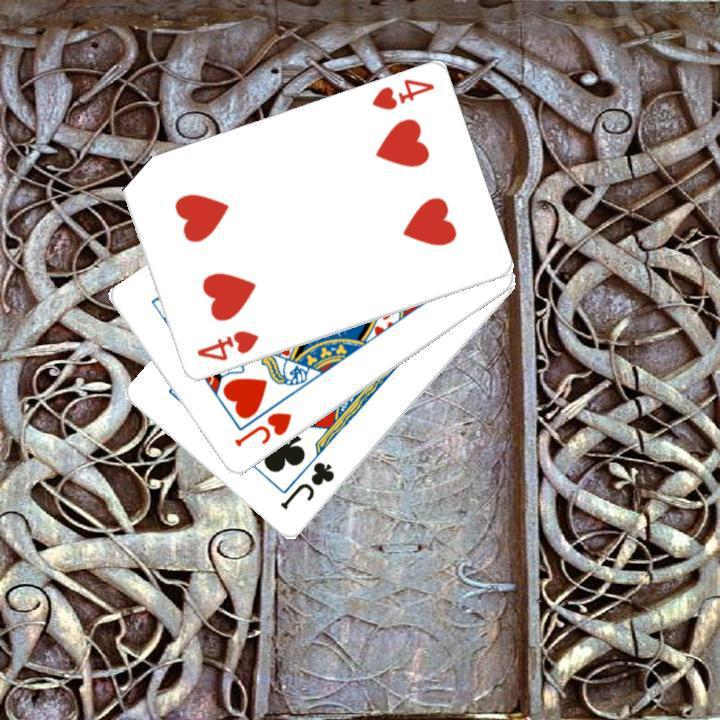4: (367, 75, 436, 113), (192, 326, 260, 364)
J: (276, 457, 337, 512), (229, 408, 294, 450)
